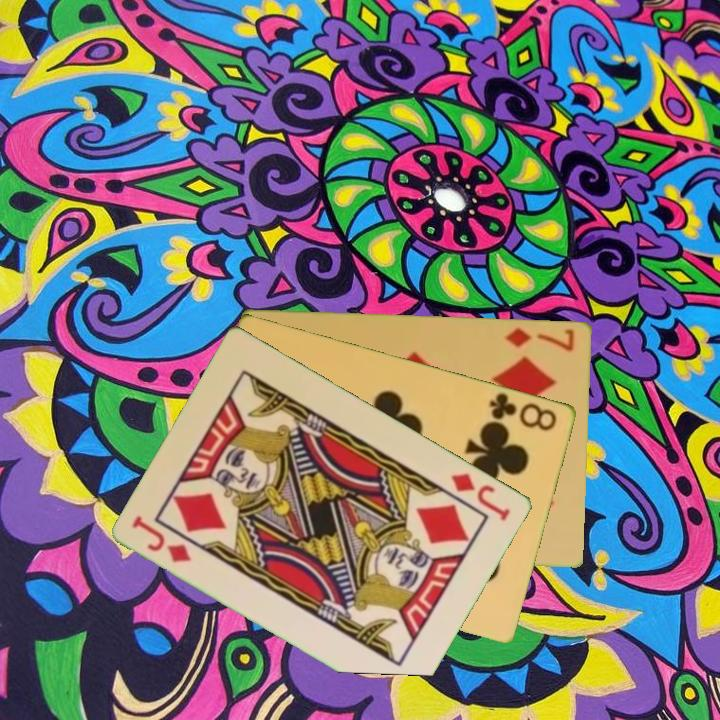7d: (502, 323, 578, 354)
8c: (486, 388, 560, 434)
Jd: (448, 469, 514, 524), (129, 512, 195, 566)
